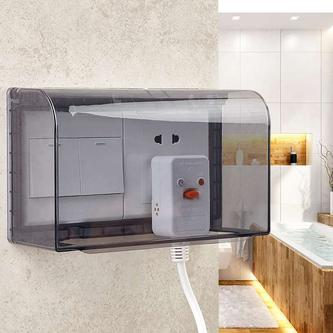switch: (77, 138, 124, 192), (30, 140, 76, 194)
